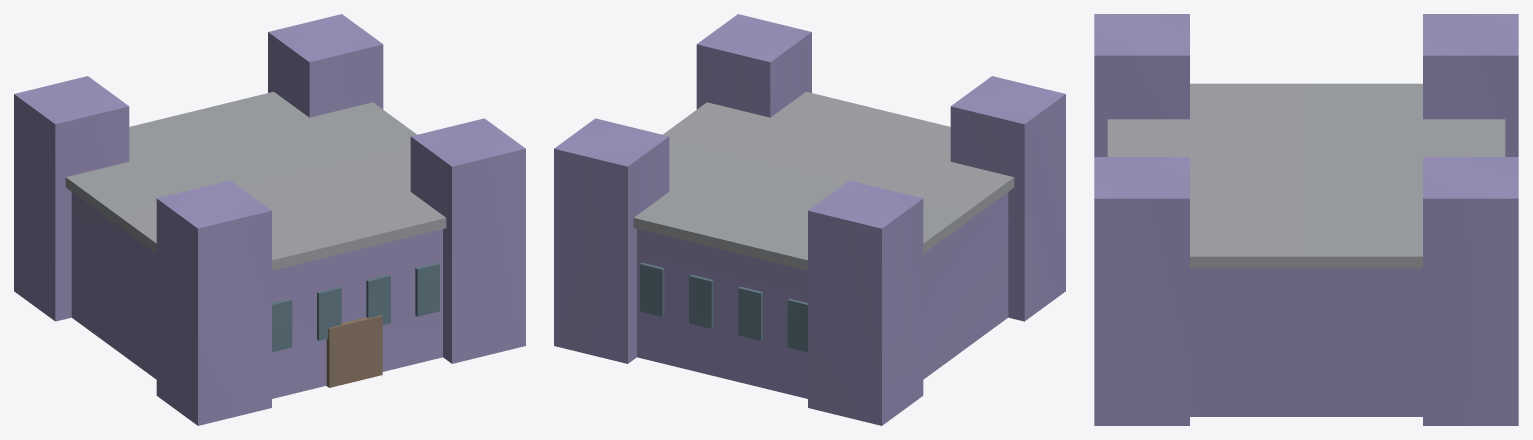
File: fort-02.glb
3 renders of one model, left to right at view 1: azimuth 30°, elevation 25°; view 2: azimuth 150°, elevation 25°; view 3: azimuth 270°, elevation 25°, orthographic. The views are drawn at different scales.
Parts seen in each view (by area): view 1: world; view 2: world; view 3: world.
Part boxes in pixels (x1=…): world: x1=14, y1=14, x2=525, y2=425; world: x1=554, y1=14, x2=1065, y2=425; world: x1=1094, y1=14, x2=1518, y2=425.
Bounding box in the file's own units: 2.32 × 1.33 × 2.25.
